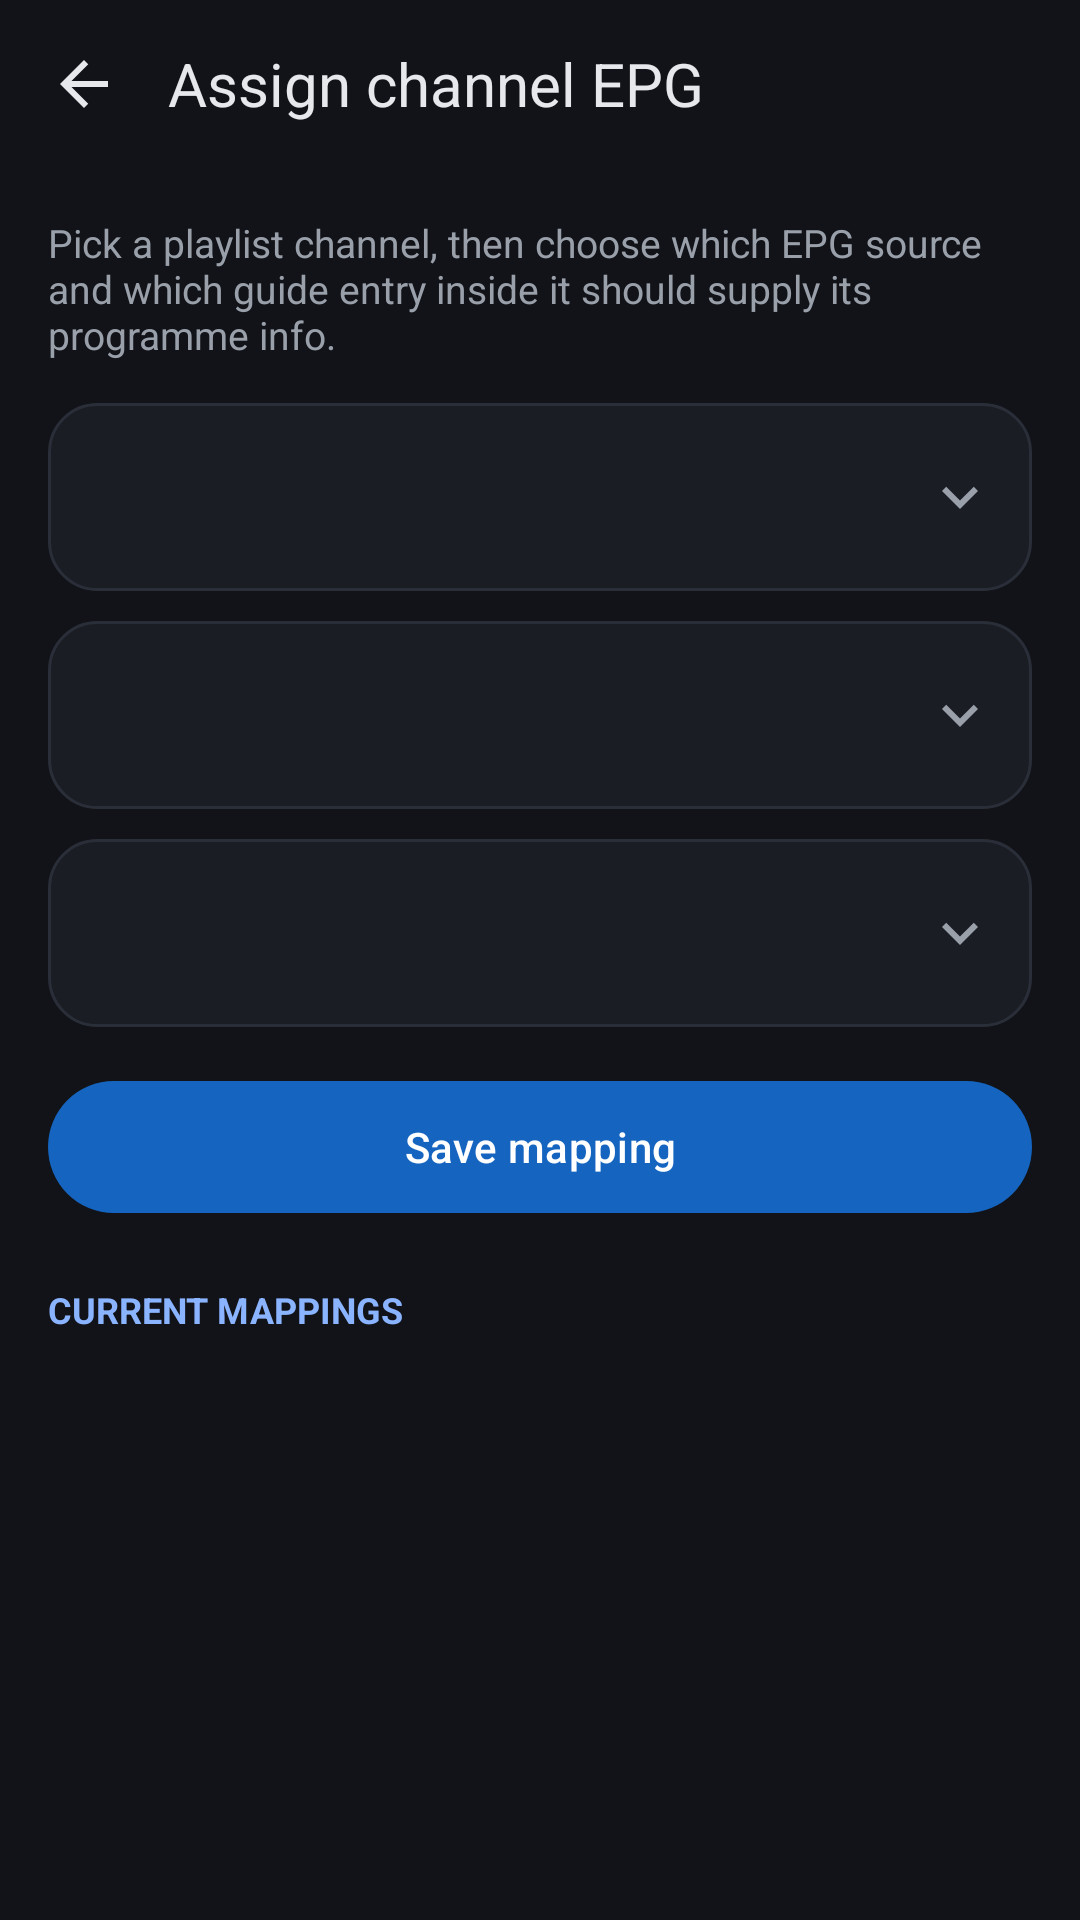

Where to tap for icons on this 1080×1920 app screen, as (x,y):
Back: (84,84)
expand more: (960,498), (960,716), (960,934)
